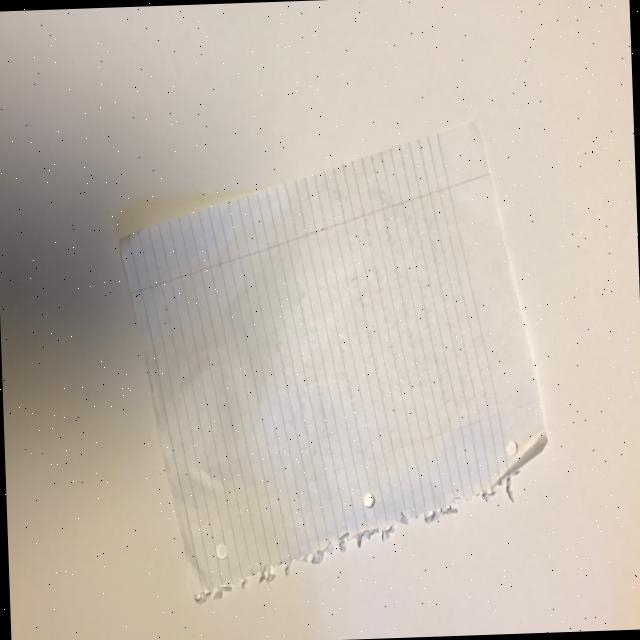paper: (114, 116, 554, 604)
